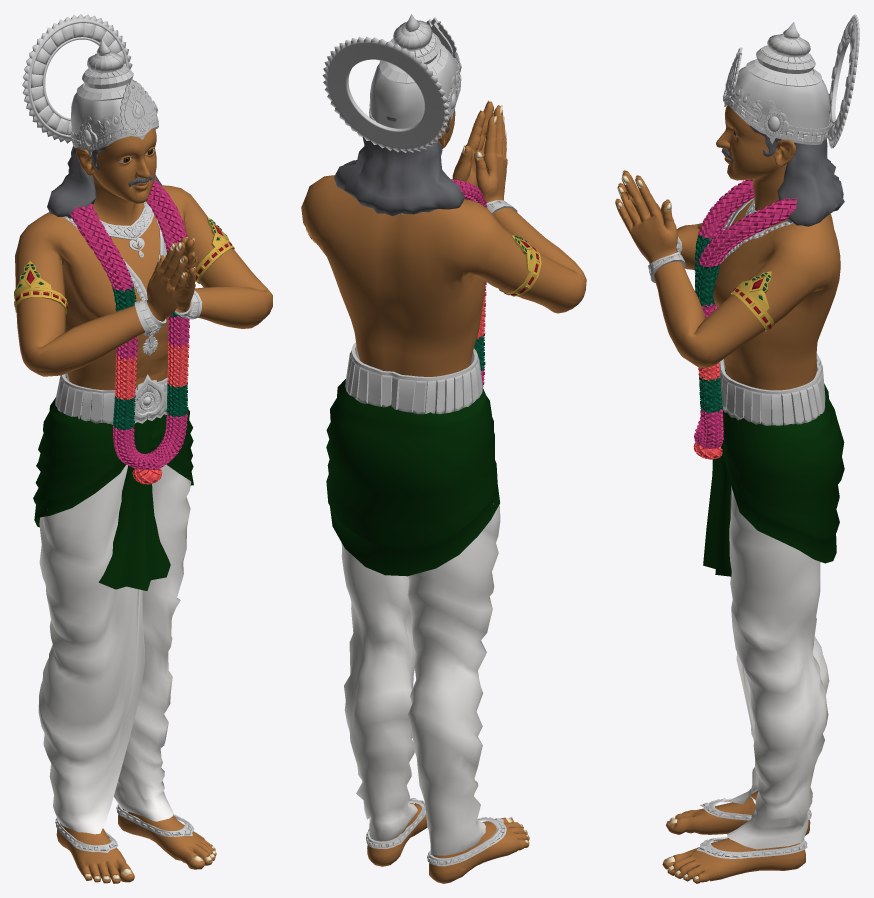
File: Vibhishan.gltf
The picture shows the model from 3 angles, left to right: view 1: azimuth 30°, elevation 25°; view 2: azimuth 150°, elevation 25°; view 3: azimuth 270°, elevation 25°; orthographic projection. The views are drawn at different scales.
Parts seen in each view (by area): view 1: poly_kirit4_Pancha1_0.003, polySurface1388_Body2_0.003, poly_kirit1_g1:Gold2_0.003, poly_kirit3_Cloth_2_0.003, polySurface1378_Flower_1_0.012, poly_kirit5_Cloth_5_0.003, Head_Body2_0.001, polySurface1303_g1:Gold2_0.003, polySurface1384_Body2_0.003, polySurface1386_Body2_0.003, hair_mid_Hair3_0.003, polySurface1378_Flower_1_0.013 (+6 smaller); view 2: poly_kirit4_Pancha1_0.003, polySurface1388_Body2_0.003, poly_kirit3_Cloth_2_0.003, poly_kirit1_g1:Gold2_0.003, hair_mid_Hair3_0.003, polySurface1303_g1:Gold2_0.003, polySurface1386_Body2_0.003, polySurface1384_Body2_0.003, polySurface1346_g1:Gold2_0.003, polySurface1377_g1:Gold2_0.001; view 3: poly_kirit4_Pancha1_0.003, polySurface1388_Body2_0.003, poly_kirit3_Cloth_2_0.003, poly_kirit1_g1:Gold2_0.003, polySurface1378_Flower_1_0.012, hair_mid_Hair3_0.003, polySurface1303_g1:Gold2_0.003, Head_Body2_0.001, polySurface1384_Body2_0.003, poly_kirit5_Cloth_5_0.003, polySurface1386_Body2_0.003, polySurface1378_Flower_1_0.011 (+3 smaller).
Part boxes in pixels (x1,y1,x2,y2): poly_kirit4_Pancha1_0.003: (38,464,191,834); polySurface1388_Body2_0.003: (15,185,272,390); poly_kirit1_g1:Gold2_0.003: (22,14,158,156); poly_kirit3_Cloth_2_0.003: (33,376,193,527); polySurface1378_Flower_1_0.012: (70,180,189,470); poly_kirit5_Cloth_5_0.003: (98,419,170,590); Head_Body2_0.001: (76,127,156,225); polySurface1303_g1:Gold2_0.003: (55,373,167,424); polySurface1384_Body2_0.003: (118,808,216,869); polySurface1386_Body2_0.003: (56,823,134,883); hair_mid_Hair3_0.003: (47,146,161,218); polySurface1378_Flower_1_0.013: (115,342,189,399); poly_kirit4_Pancha1_0.003: (341,503,500,855); polySurface1388_Body2_0.003: (301,101,586,376); poly_kirit3_Cloth_2_0.003: (326,379,499,576); poly_kirit1_g1:Gold2_0.003: (322,14,461,152); hair_mid_Hair3_0.003: (334,109,464,216); polySurface1303_g1:Gold2_0.003: (345,342,482,414); polySurface1386_Body2_0.003: (429,817,529,883); polySurface1384_Body2_0.003: (367,800,427,866); polySurface1346_g1:Gold2_0.003: (499,235,541,296); polySurface1377_g1:Gold2_0.001: (427,818,506,866); poly_kirit4_Pancha1_0.003: (727,485,829,849); polySurface1388_Body2_0.003: (615,171,840,390); poly_kirit3_Cloth_2_0.003: (722,368,844,563); poly_kirit1_g1:Gold2_0.003: (723,14,859,148); polySurface1378_Flower_1_0.012: (694,179,797,448); hair_mid_Hair3_0.003: (749,111,844,226); polySurface1303_g1:Gold2_0.003: (719,353,825,425); Head_Body2_0.001: (716,105,795,210); polySurface1384_Body2_0.003: (662,838,805,883); poly_kirit5_Cloth_5_0.003: (703,411,731,576); polySurface1386_Body2_0.003: (666,790,810,835); polySurface1378_Flower_1_0.011: (694,233,720,307).
Bounding box in the file's own units: 1.56 × 4.9 × 1.31.
